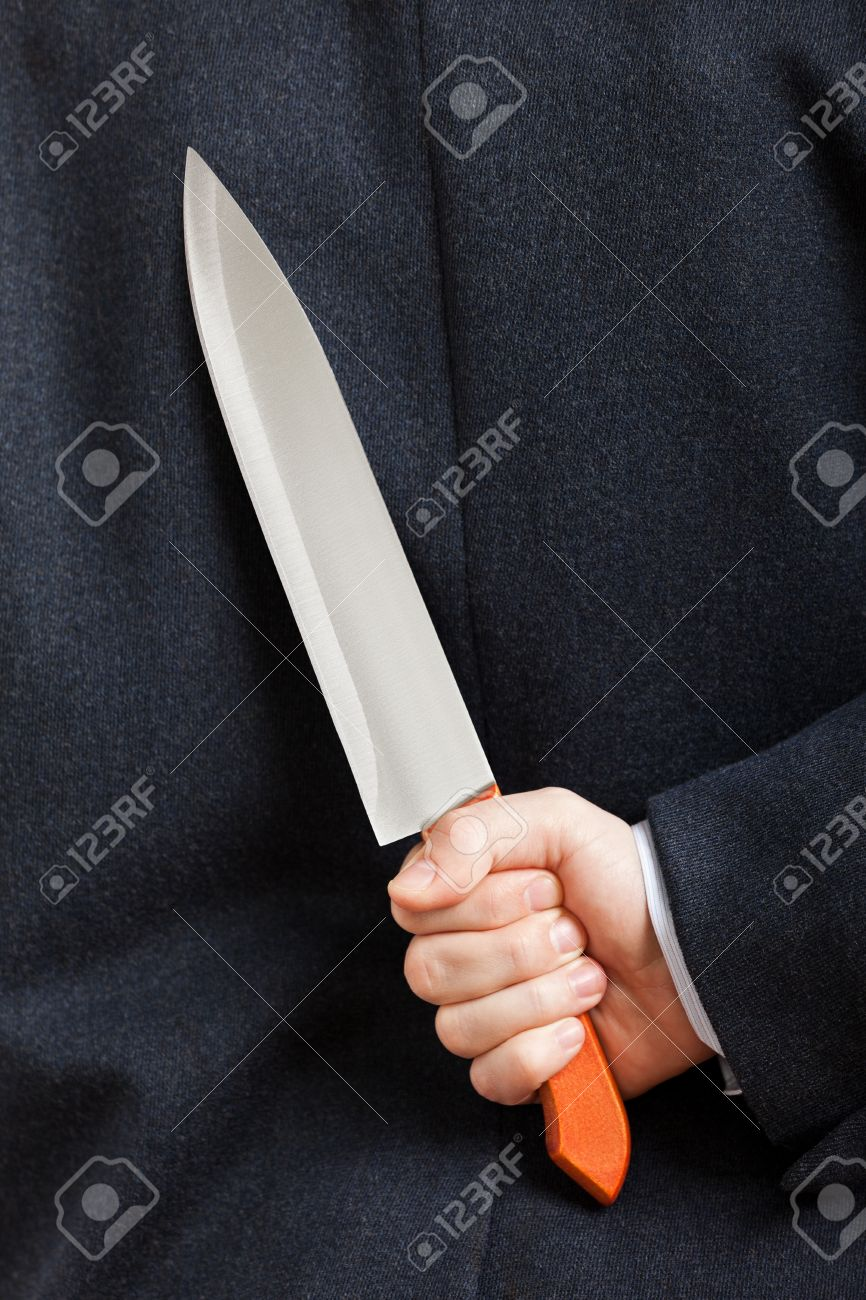knife: (159, 131, 610, 1010)
